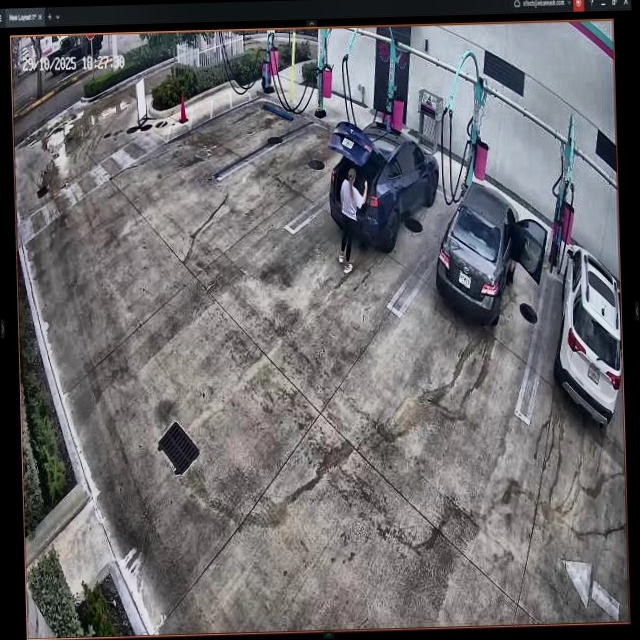Car: (435, 181, 546, 322), (329, 113, 440, 253)
